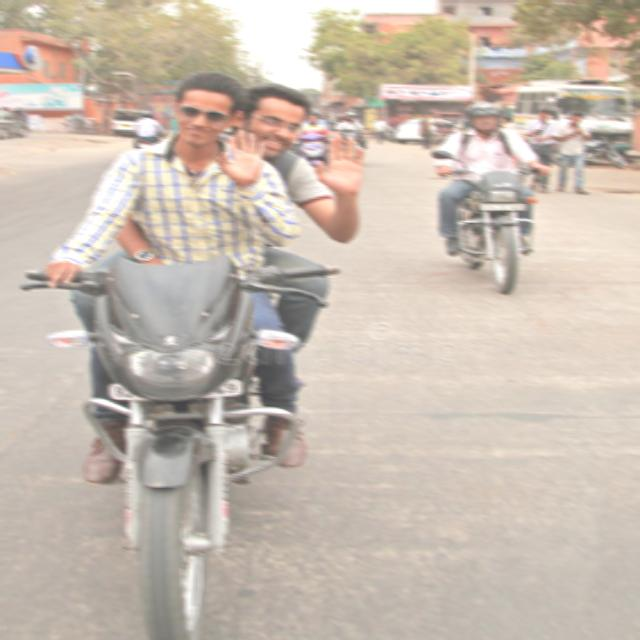With Helmet: (247, 79, 314, 160), (462, 98, 504, 131)
Without Helmet: (170, 67, 241, 148)
